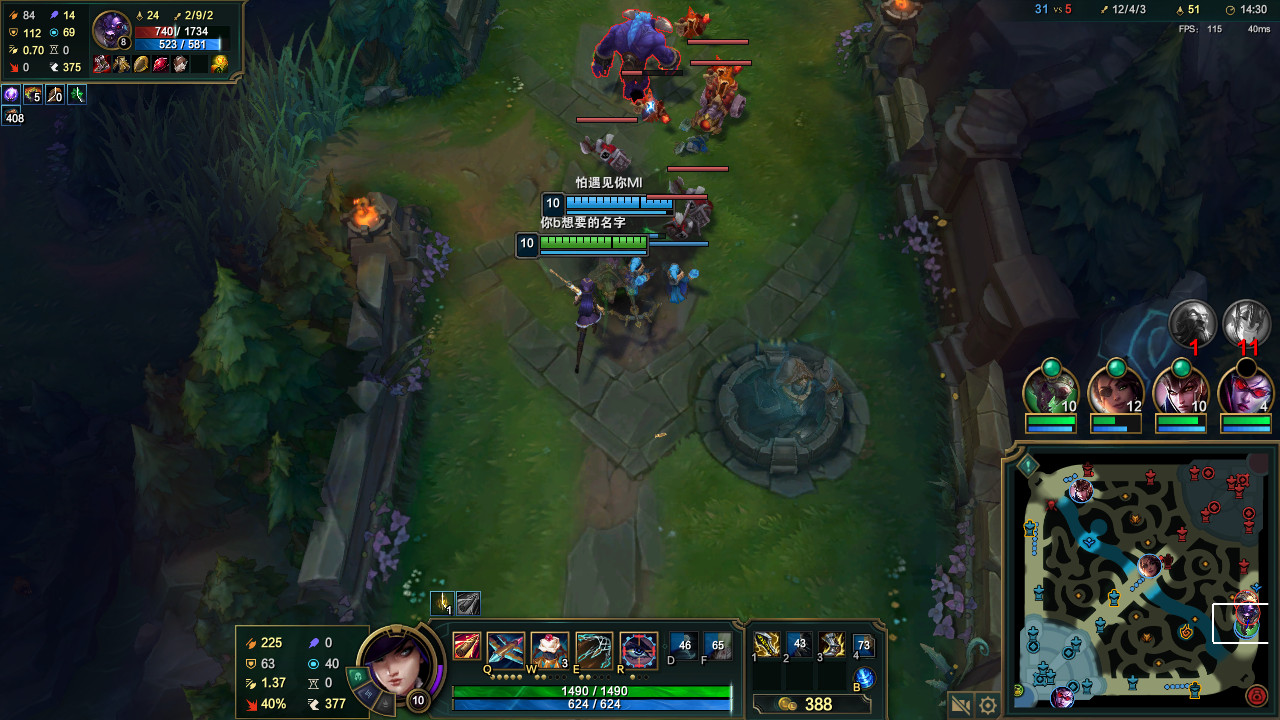DFXB: (691, 79, 745, 118), (586, 135, 626, 169), (673, 9, 707, 36), (661, 209, 687, 240), (681, 190, 707, 220), (639, 97, 667, 120), (702, 61, 738, 73)
WFXB: (660, 263, 698, 300), (627, 259, 652, 286)
